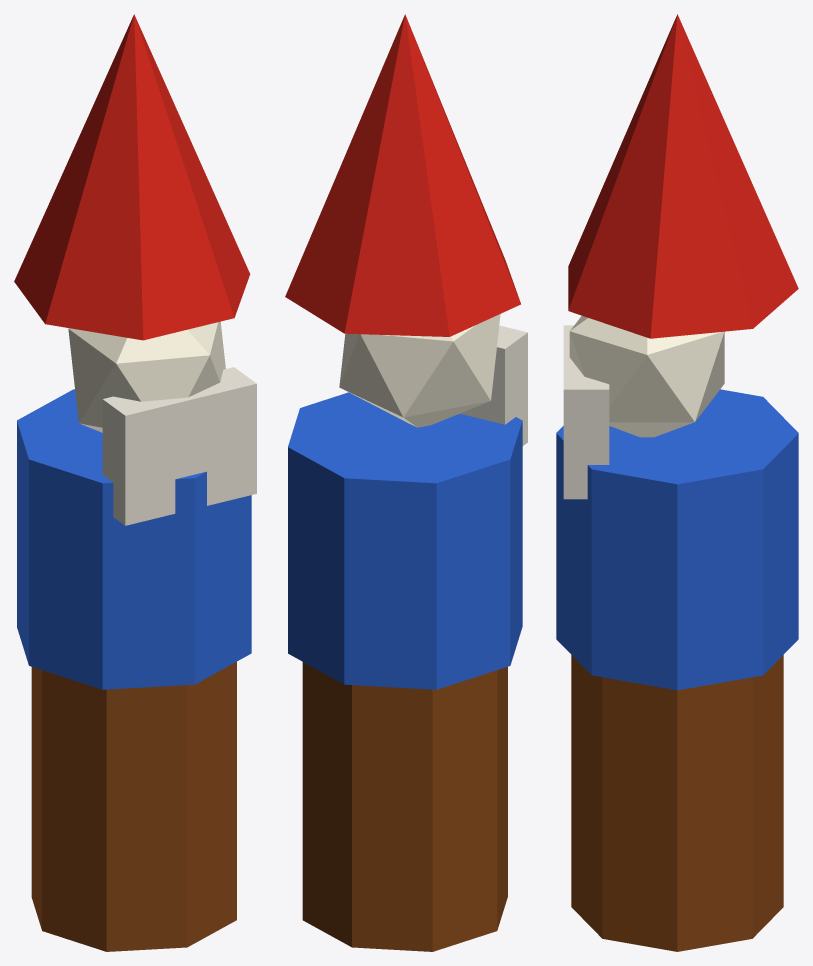
The model's file is garden2_garden_gnome.glb.
The picture shows the model from 3 angles, left to right: view 1: azimuth 30°, elevation 25°; view 2: azimuth 150°, elevation 25°; view 3: azimuth 270°, elevation 25°; orthographic projection.
Visible parts, largest first — view 1: garden_gnome; view 2: garden_gnome; view 3: garden_gnome.
Boxes of the visible parts, box(x1,y1,x2,y2) form: garden_gnome: box(14, 14, 256, 951); garden_gnome: box(285, 14, 527, 951); garden_gnome: box(556, 14, 798, 951).
Size of the model in its own units: 0.16 by 0.65 by 0.16.
